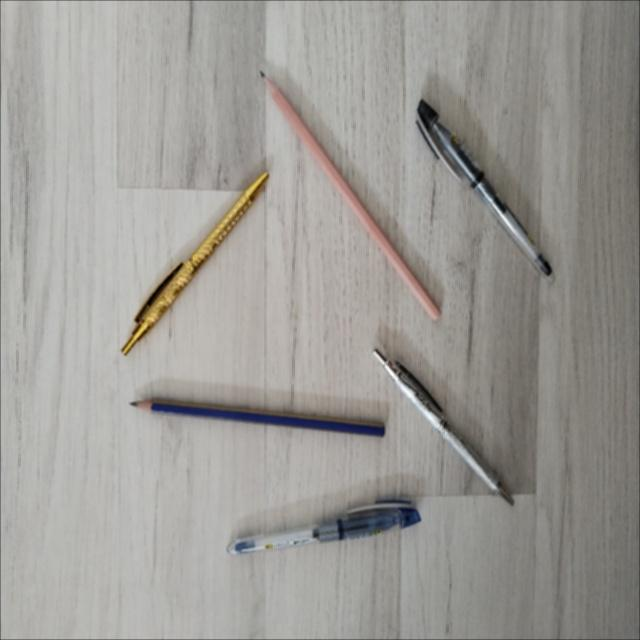pen: (417, 100, 551, 276), (227, 500, 420, 554)
pencil: (260, 71, 439, 319), (131, 400, 384, 436)
signature pen: (122, 172, 268, 354), (373, 349, 513, 504)
